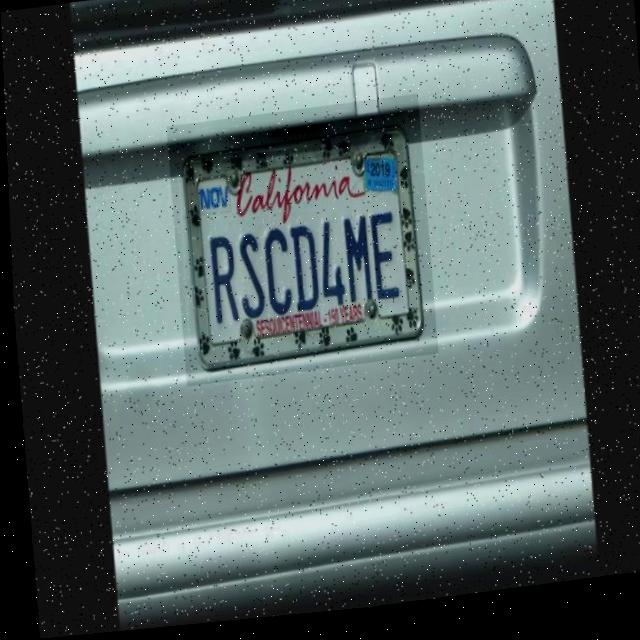LicensePlate: (164, 101, 435, 390)
